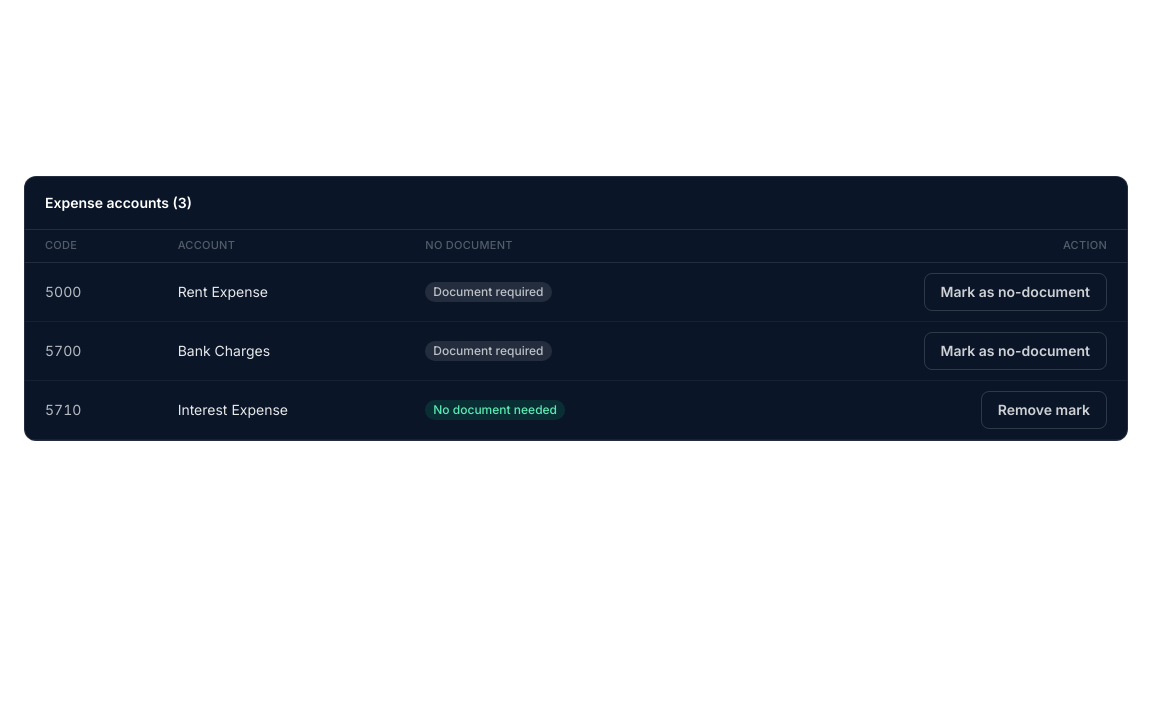
Test case: a client's no-document accounts › unmarks a marked account the same way
This screenshot has width=1152, height=720.
Click the button "Remove mark" at (1044, 410), box x1=981 y1=391 x2=1107 y2=429
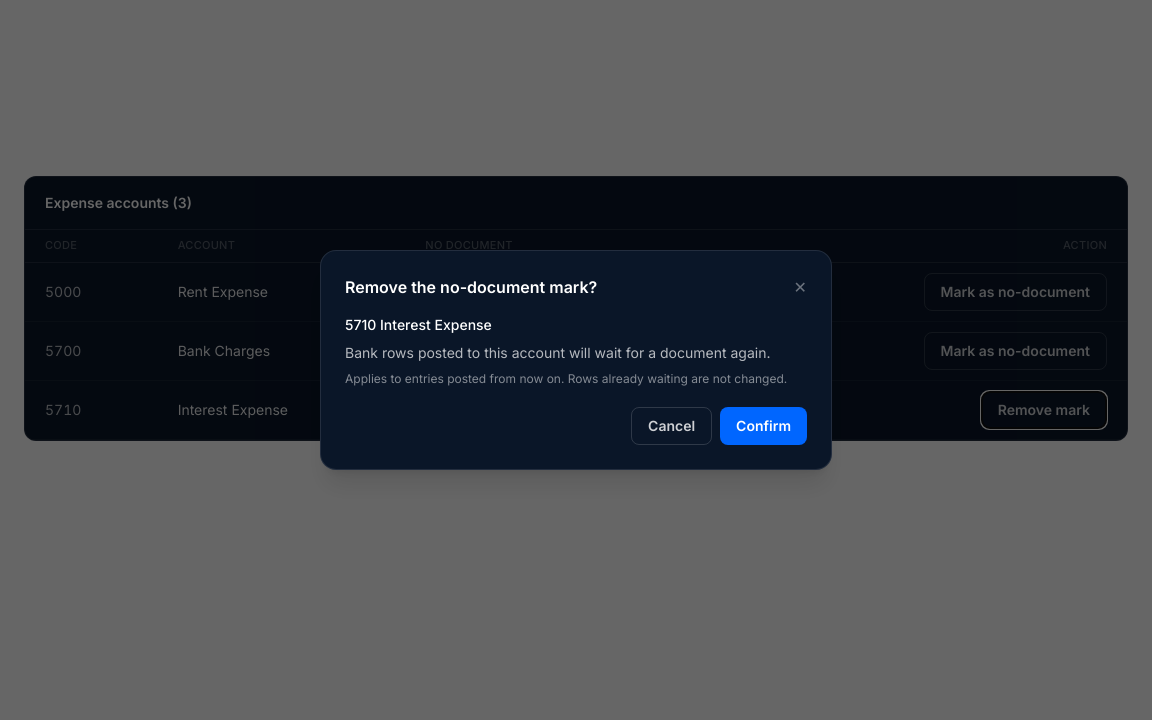
Check: the heading "Remove the no-document mark?" is shown, box x1=345 y1=275 x2=597 y2=299
Click the button "Confirm" at (764, 426), box x1=720 y1=407 x2=807 y2=445
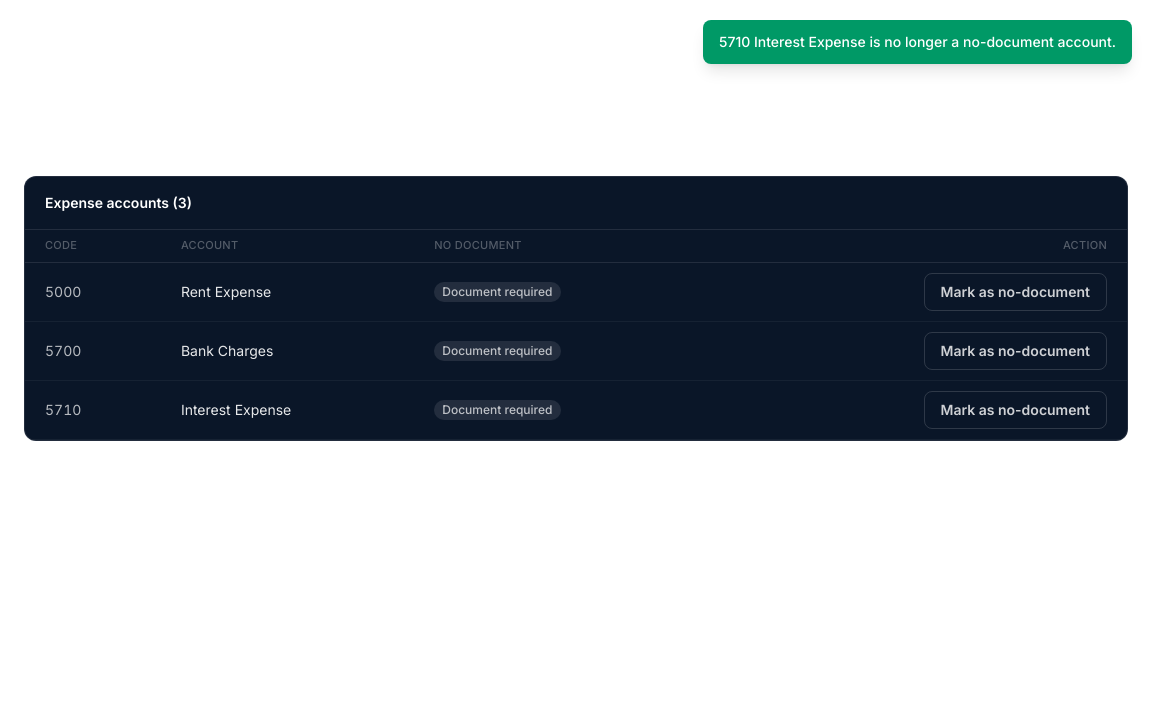
Check: the text "Document required" in the row of "5000" is shown, box x1=442 y1=284 x2=552 y2=299
Check: the text "5710 Interest Expense is no longer a no-document account." is shown, box x1=703 y1=20 x2=1132 y2=64
